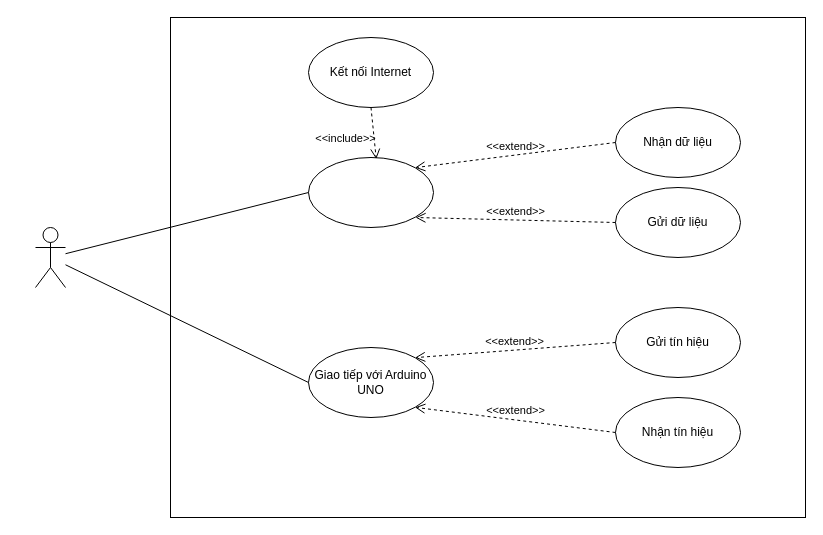
Image size: 823x535. Some labels were removed from this diagram. Here are the shapes that lost their labels. From the top down, the centre of each, then its label:
At (x=371, y=192): "Giao tiếp với MQTT".
At (x=50, y=257): "Module ESP".
